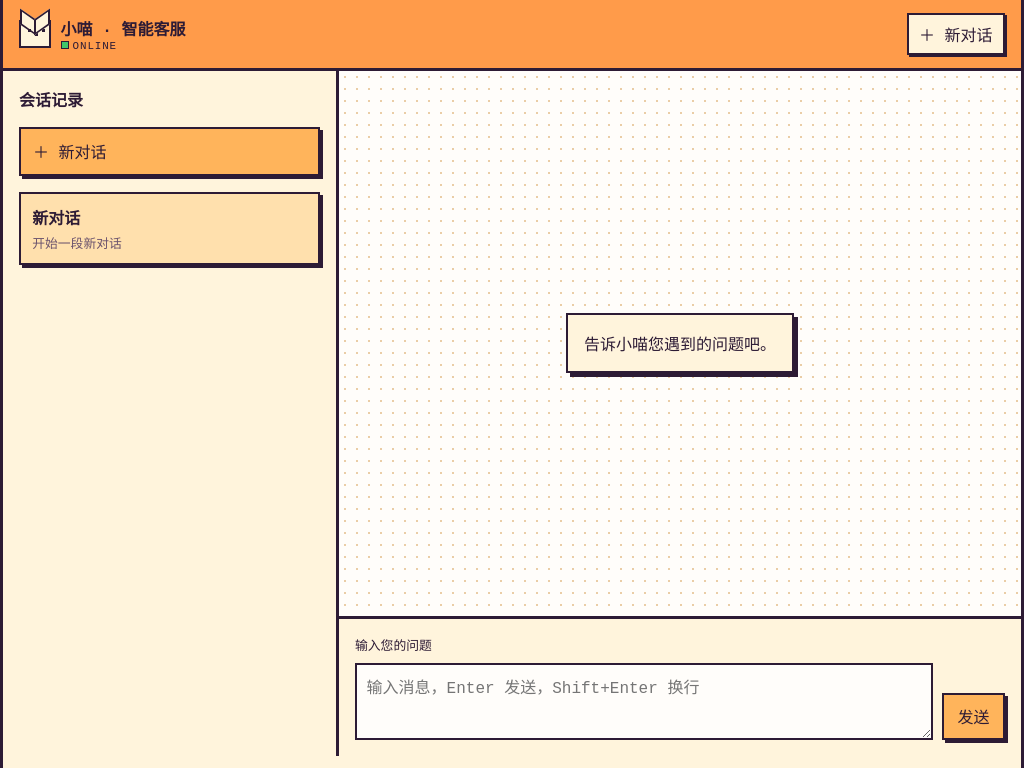
Scenario: App › creates sessions and displays the selected session history
Step 1. Type "第一段对话" into the text box labelled "输入您的问题" → (644, 701), box top-left (355, 663), bottom-right (933, 740)
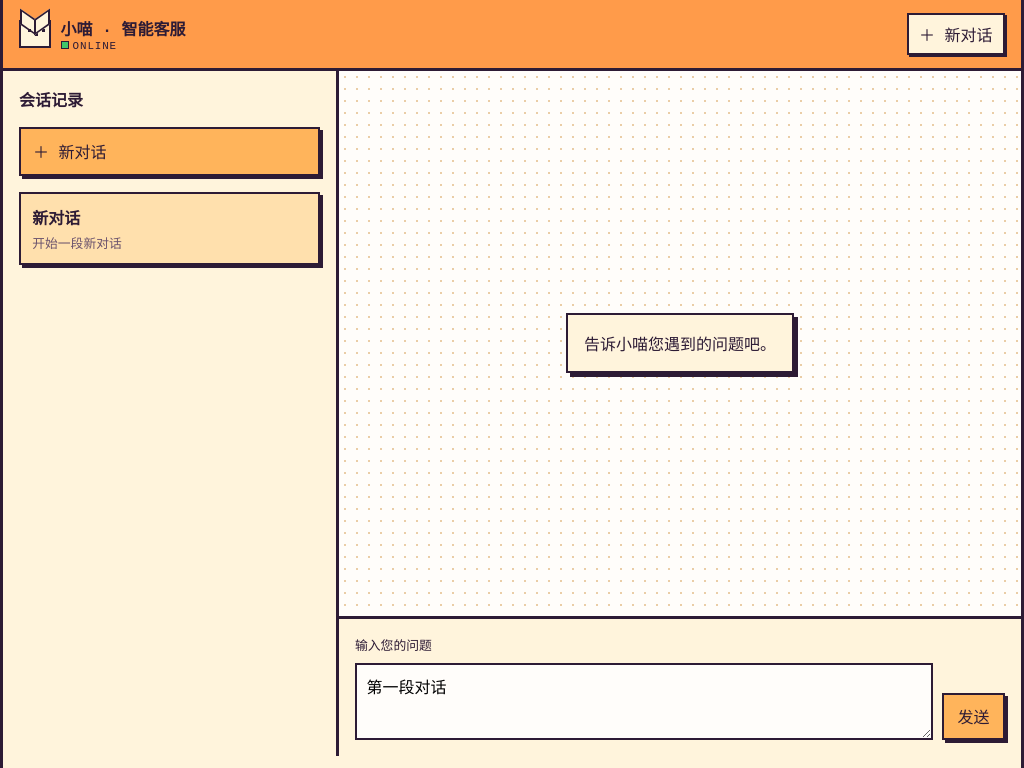
Step 2. Submit the form, box top-left (339, 616), bottom-right (1021, 756)
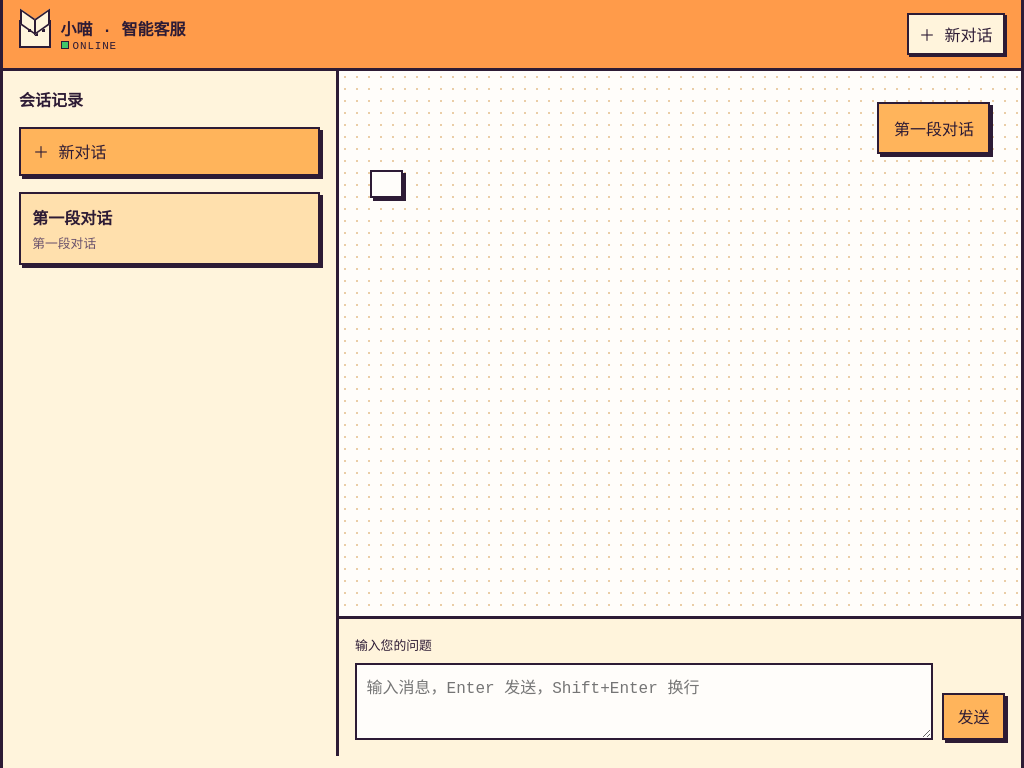
Step 3. Click the button with class "chat-header__new" → (956, 34), box top-left (907, 13), bottom-right (1005, 55)
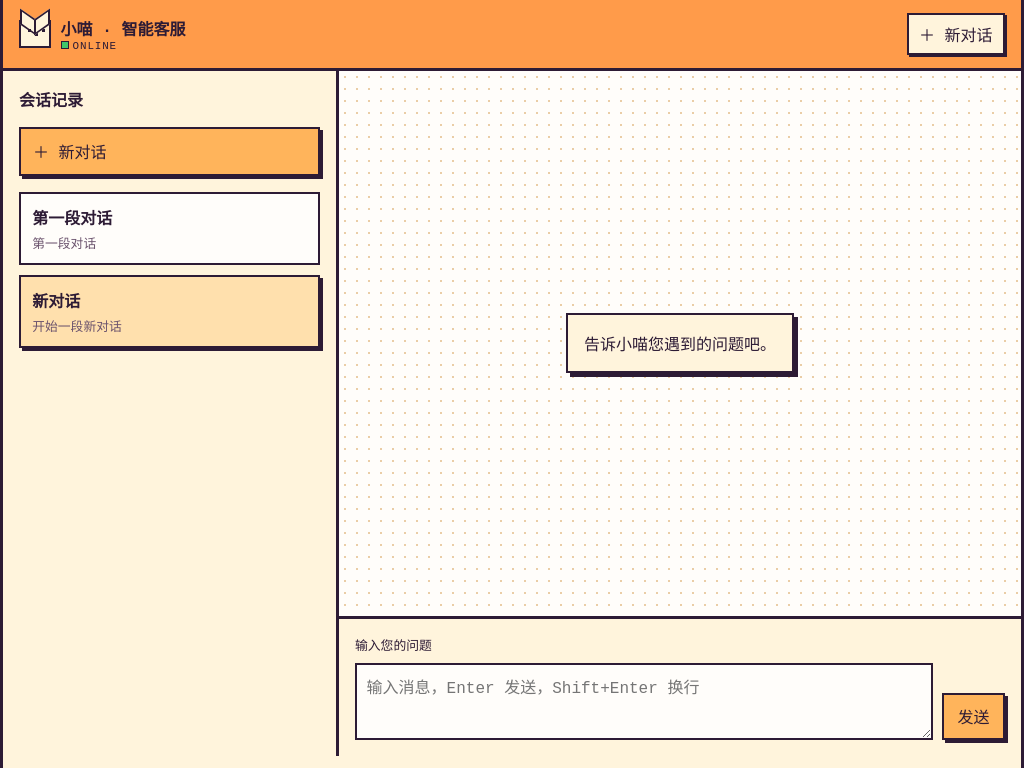
Expected: no elements named "用户消息" are shown
Step 4. Click the button "第一段对话 第一段对话" → (72, 220), box top-left (19, 192), bottom-right (320, 265)
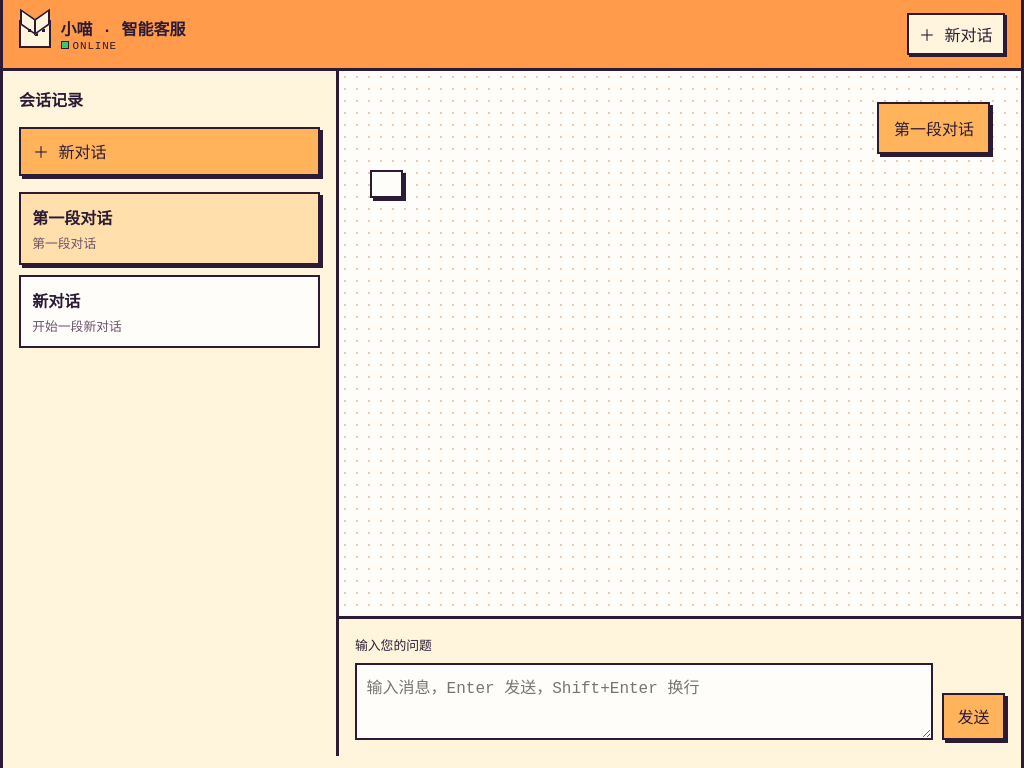
Expected: the number of elements named "用户消息" is 1, top-left (878, 102), bottom-right (990, 154)
